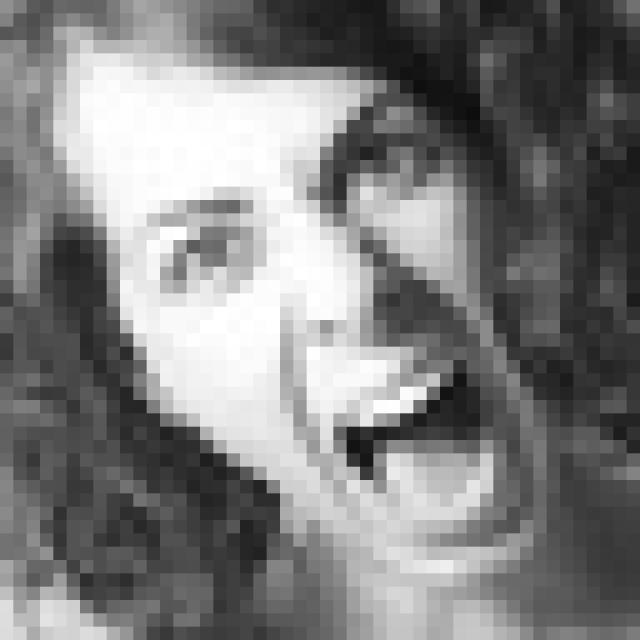angry: (114, 87, 521, 546)
